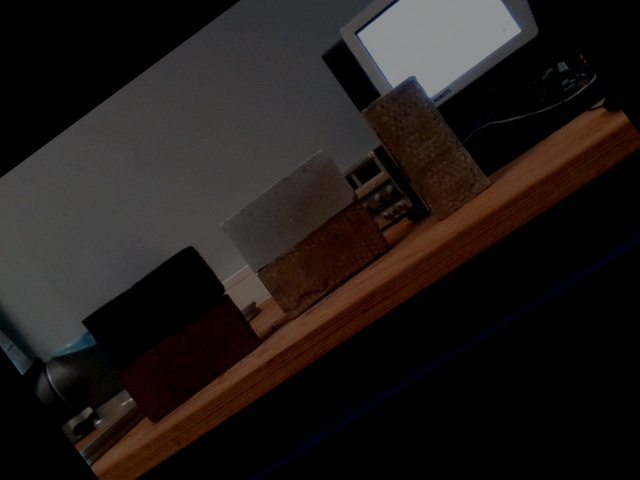brick: (365, 76, 491, 218), (121, 295, 261, 421), (87, 244, 225, 369), (223, 150, 358, 272), (259, 202, 389, 318)
